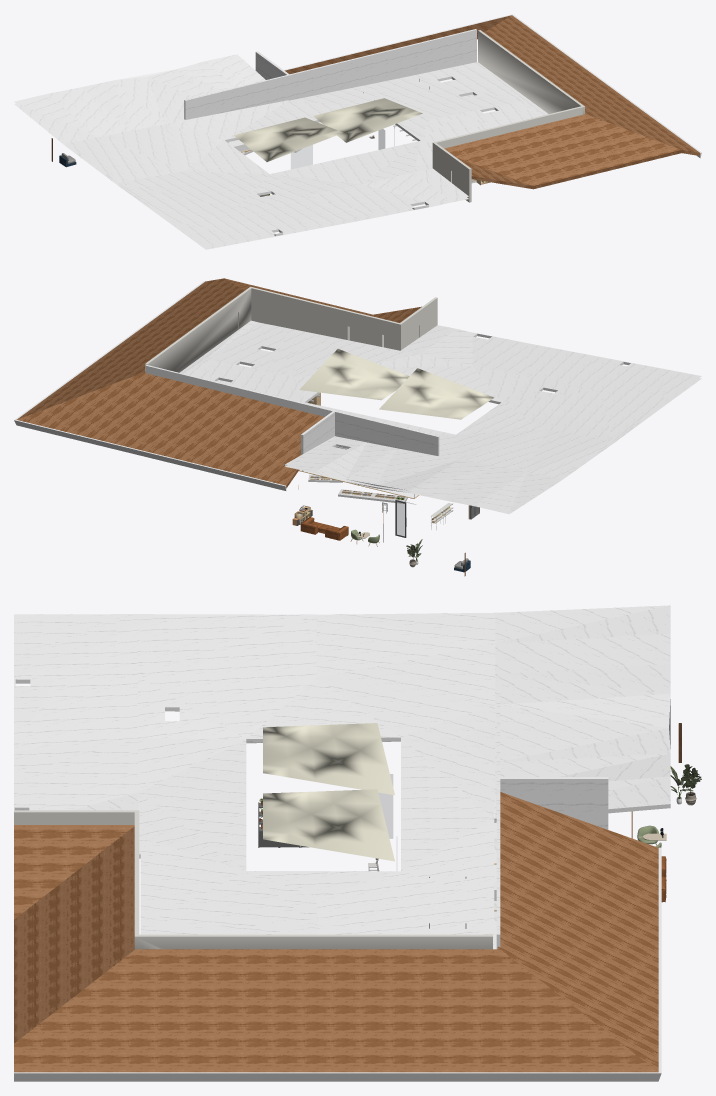
File: patio_01.glb
3 renders of one model, top to bottom at view 1: azimuth 30°, elevation 25°; view 2: azimuth 150°, elevation 25°; view 3: azimuth 270°, elevation 25°, orthographic. The views are drawn at different scales.
Visible parts, largest first — view 1: main_ceiling, roof, top_part, top_part.001, shadesail_01, roof_edge, ceiling_part; view 2: main_ceiling, roof, top_part.001, shadesail_01, top_part, roof_edge, listening_lounge, ceiling_part; view 3: main_ceiling, roof, shadesail_01, top_part.001, roof_edge, ceiling_part, top_part.
Boxes of the visible parts, bbox=[...] form: main_ceiling: bbox=[14, 54, 548, 249]; roof: bbox=[285, 15, 700, 189]; top_part: bbox=[184, 29, 476, 119]; top_part.001: bbox=[432, 30, 584, 202]; shadesail_01: bbox=[234, 98, 422, 161]; roof_edge: bbox=[284, 14, 701, 158]; ceiling_part: bbox=[255, 51, 288, 79]; main_ceiling: bbox=[179, 320, 701, 514]; roof: bbox=[16, 278, 421, 488]; top_part.001: bbox=[145, 286, 437, 372]; shadesail_01: bbox=[299, 349, 494, 419]; top_part: bbox=[145, 365, 439, 455]; roof_edge: bbox=[14, 281, 286, 490]; listening_lounge: bbox=[292, 505, 348, 540]; ceiling_part: bbox=[301, 411, 334, 454]; main_ceiling: bbox=[14, 605, 670, 949]; roof: bbox=[14, 792, 658, 1072]; shadesail_01: bbox=[263, 723, 394, 861]; top_part.001: bbox=[14, 810, 492, 949]; roof_edge: bbox=[14, 847, 661, 1081]; ceiling_part: bbox=[500, 777, 608, 829]; top_part: bbox=[496, 691, 500, 949].
Bounding box in the file's own units: 1603 × 250 × 1126.
184 materials, 67 textured.
